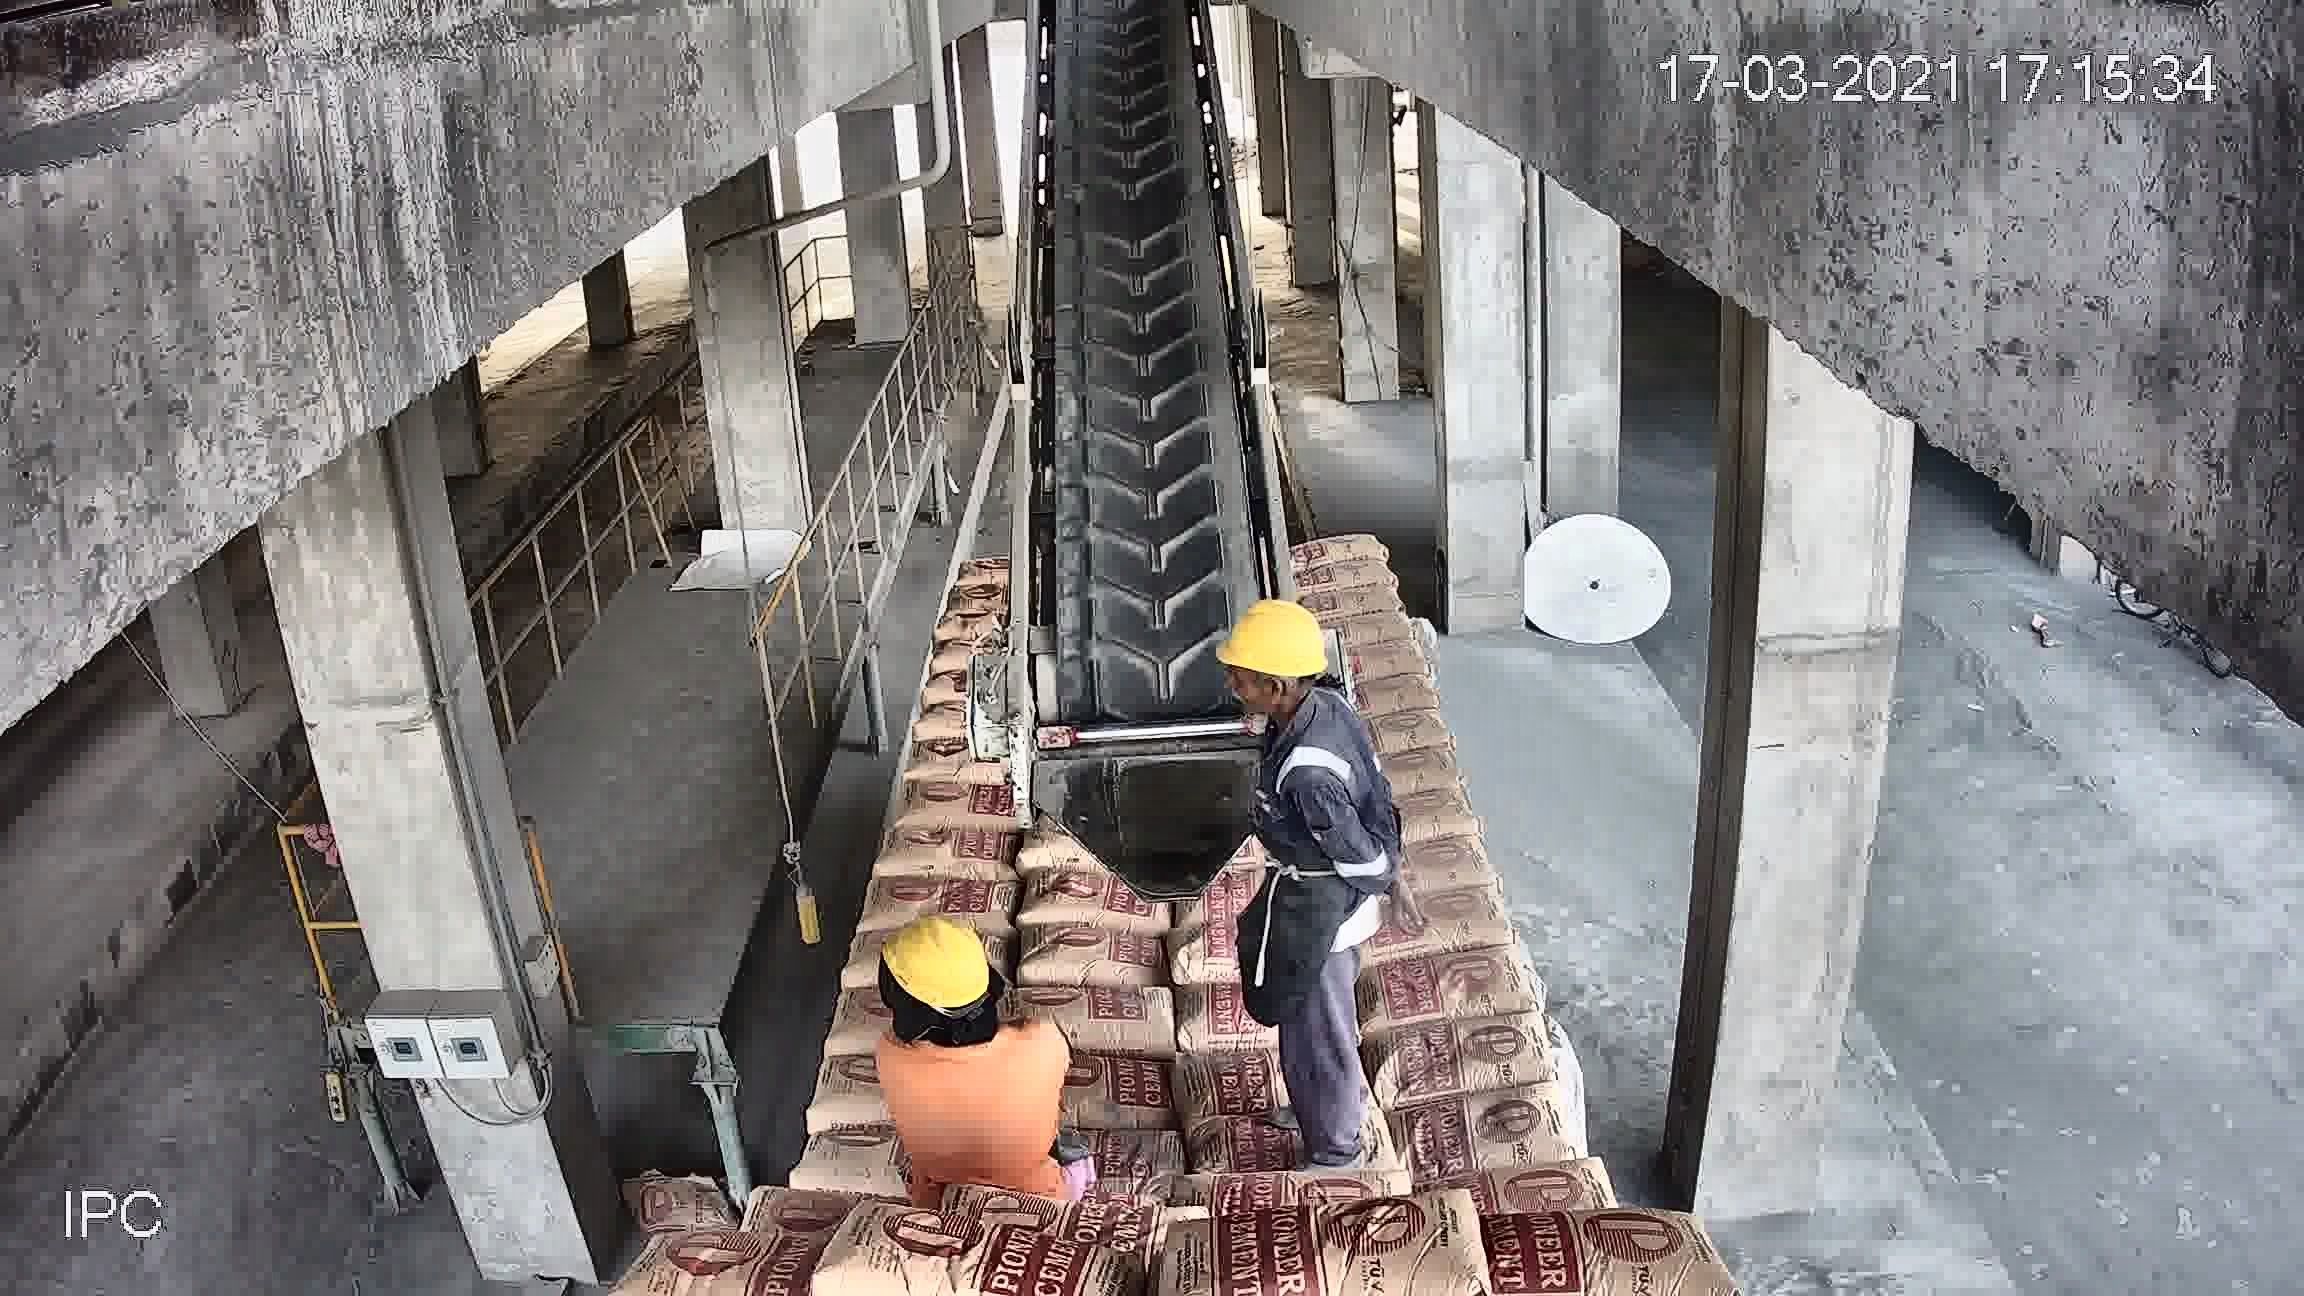bag_h: (1198, 1206, 1524, 1296), (804, 1218, 1119, 1296), (1446, 1199, 1706, 1291), (1410, 1078, 1605, 1177), (1374, 1014, 1554, 1108), (1351, 946, 1533, 1035), (646, 1230, 845, 1294), (1017, 916, 1168, 1002), (1177, 1171, 1408, 1222), (1040, 989, 1196, 1059), (1438, 1163, 1609, 1225), (858, 867, 1025, 926), (870, 826, 1025, 885), (1051, 1054, 1182, 1120), (897, 779, 1017, 839), (1291, 555, 1400, 600), (1291, 532, 1396, 571), (1309, 585, 1404, 625)
belt: (1013, 33, 1275, 769)
